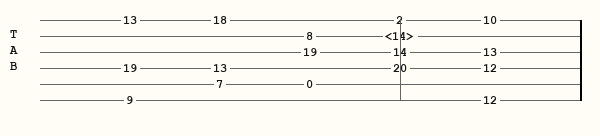0: (306, 78, 317, 90)
10: (483, 14, 501, 26)
12: (483, 94, 501, 106), (483, 62, 501, 74)
13: (123, 14, 141, 26), (213, 62, 231, 74), (483, 46, 501, 58)
14: (393, 46, 411, 58)
18: (213, 14, 231, 26)
19: (123, 62, 141, 74), (303, 46, 321, 58)
2: (396, 14, 407, 26)
20: (393, 62, 411, 74)
7: (216, 78, 227, 90)
8: (306, 30, 317, 42)
9: (126, 94, 137, 106)
harmonic: (385, 30, 419, 42)
